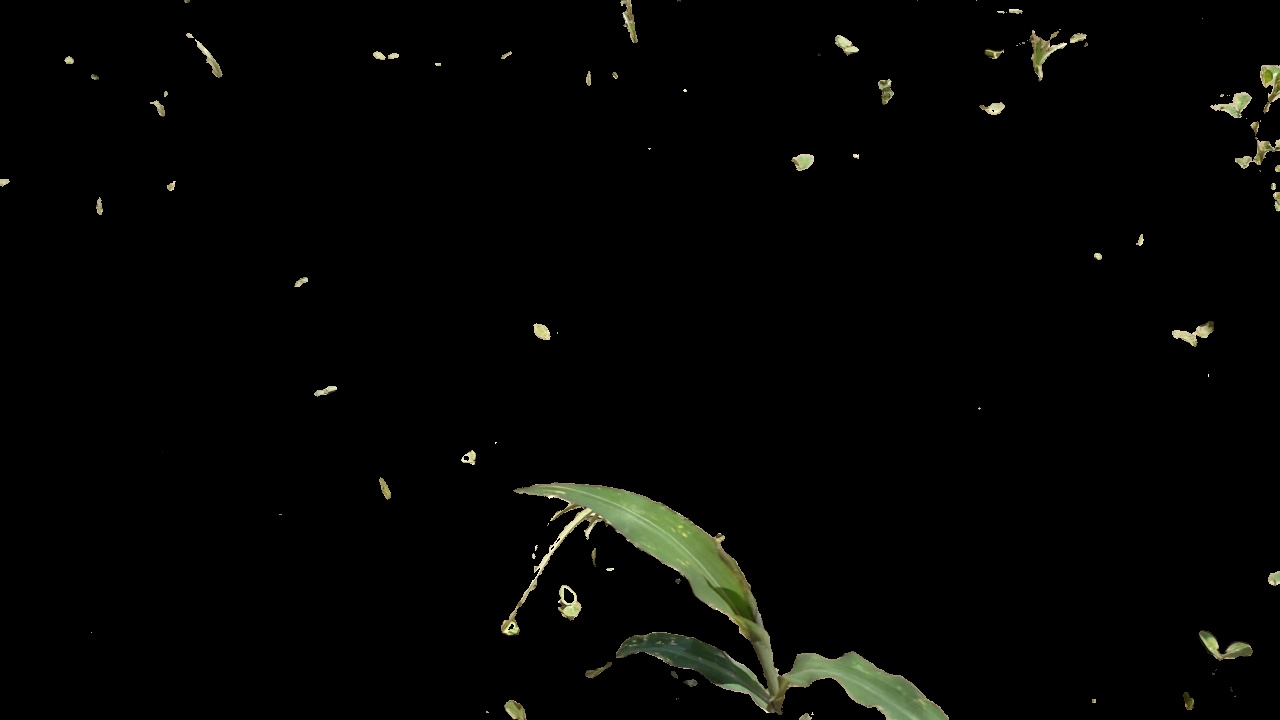crop: (498, 462, 966, 720)
weed: (1198, 58, 1272, 207), (1185, 615, 1258, 669), (1166, 319, 1215, 352)
